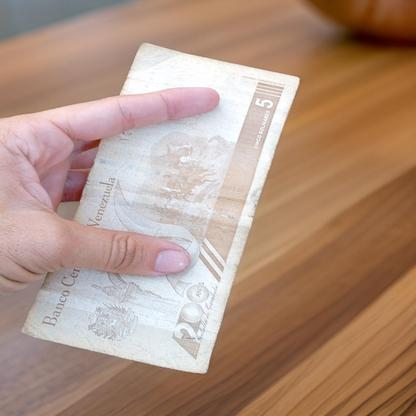five-back-vef: (21, 41, 300, 374)
